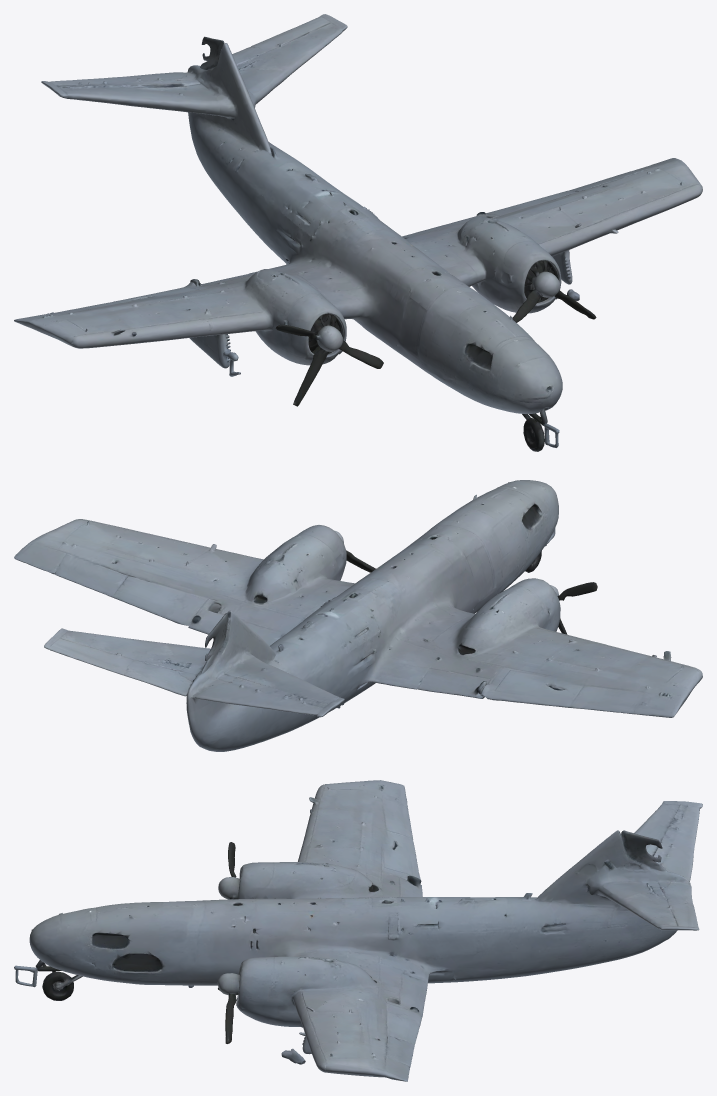
Rendered from tufan.glb.
3 renders of one model, top to bottom at view 1: azimuth 30°, elevation 25°; view 2: azimuth 150°, elevation 25°; view 3: azimuth 270°, elevation 25°, orthographic. The views are drawn at different scales.
Parts seen in each view (by area): view 1: tripo_node_696c830a-7036-44bf-99d1-3dfe6d3c53b4; view 2: tripo_node_696c830a-7036-44bf-99d1-3dfe6d3c53b4; view 3: tripo_node_696c830a-7036-44bf-99d1-3dfe6d3c53b4.
Boxes of the visible parts, <box> form: tripo_node_696c830a-7036-44bf-99d1-3dfe6d3c53b4: <box>14,14,702,451</box>; tripo_node_696c830a-7036-44bf-99d1-3dfe6d3c53b4: <box>14,480,702,751</box>; tripo_node_696c830a-7036-44bf-99d1-3dfe6d3c53b4: <box>14,780,702,1081</box>.
Bounding box in the file's own units: 1 × 0.2669 × 0.9849.
1 material, 1 textured.
